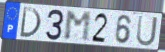2: (91, 13, 110, 44)
3: (43, 8, 65, 42)
6: (114, 14, 133, 45)
D: (18, 6, 43, 40)
M: (63, 11, 92, 44)
U: (135, 14, 159, 48)
